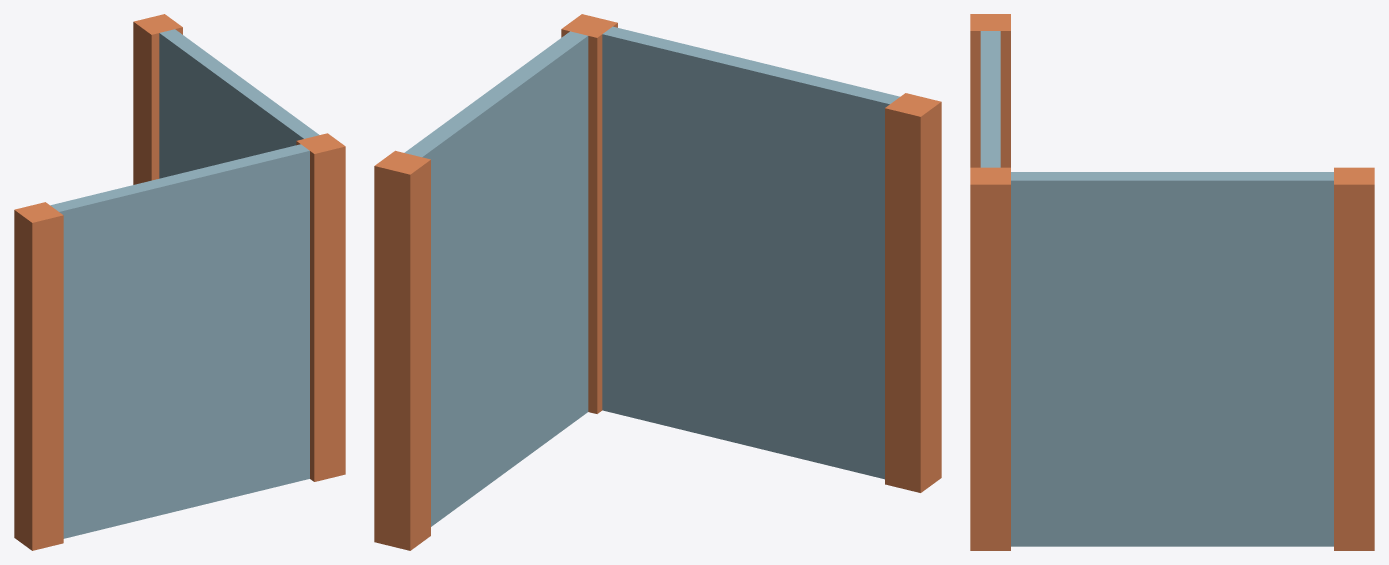
Rendered from wallCorner.fbx.
The picture shows the model from 3 angles, left to right: view 1: azimuth 30°, elevation 25°; view 2: azimuth 150°, elevation 25°; view 3: azimuth 270°, elevation 25°; orthographic projection. The views are drawn at different scales.
Visible parts, largest first — view 1: wallCorner; view 2: wallCorner; view 3: wallCorner.
Part boxes in pixels (x1,y1,x2,y2): wallCorner: (14, 14, 345, 550); wallCorner: (374, 14, 941, 550); wallCorner: (970, 14, 1374, 550).
Bounding box in the file's own units: 10 × 10 × 10.
